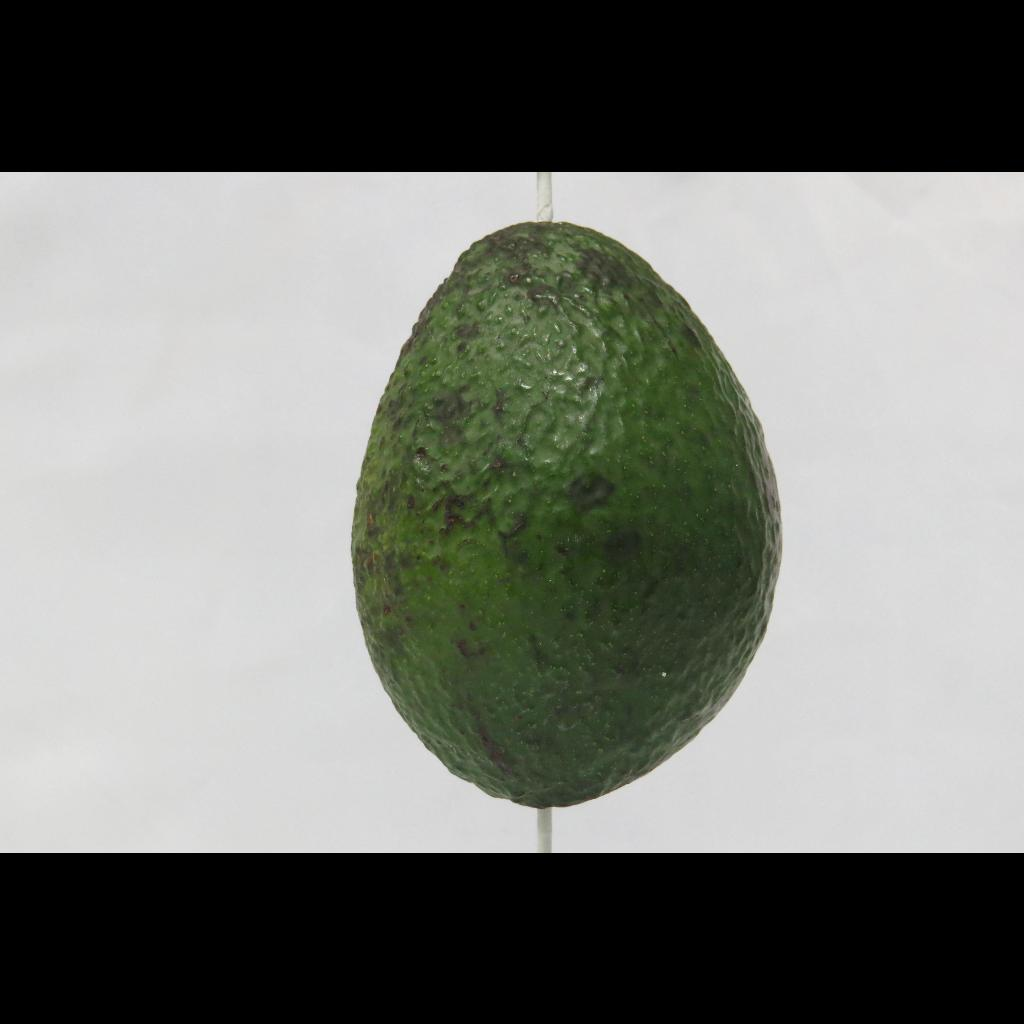fruto_sano: (346, 197, 809, 839)
